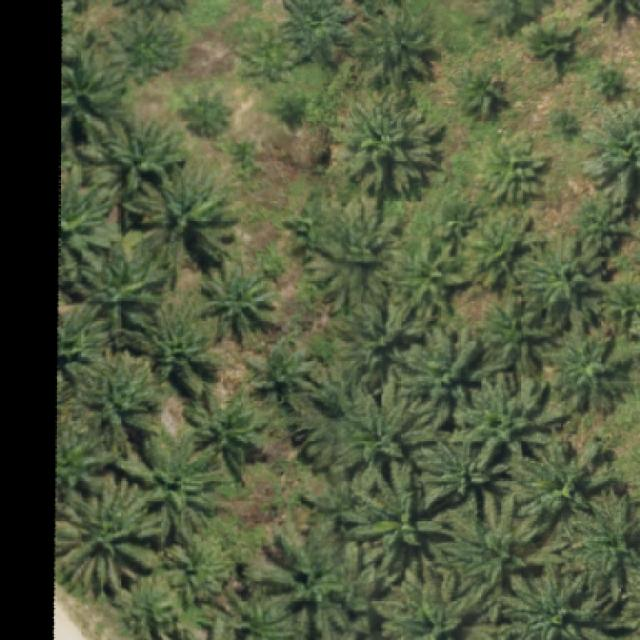Kelapa_Sawit: (432, 492, 570, 626), (128, 160, 240, 291), (243, 509, 351, 640), (348, 458, 461, 576), (79, 110, 186, 233), (331, 84, 446, 198), (502, 436, 616, 544), (114, 433, 223, 544), (394, 323, 508, 429), (305, 193, 404, 315), (61, 224, 168, 334), (448, 372, 566, 470), (119, 291, 223, 397), (338, 377, 436, 488), (514, 228, 609, 339), (288, 358, 370, 474), (78, 348, 158, 460), (183, 384, 266, 484), (372, 235, 466, 323), (332, 300, 438, 378), (197, 252, 280, 350), (352, 1, 440, 90), (549, 332, 637, 417), (460, 204, 546, 290), (473, 294, 558, 380), (246, 333, 320, 413), (480, 130, 554, 208), (109, 7, 182, 84), (159, 534, 236, 606), (236, 23, 301, 85), (522, 14, 582, 75), (457, 64, 511, 121), (175, 86, 231, 139), (440, 194, 482, 248), (590, 56, 628, 99)
